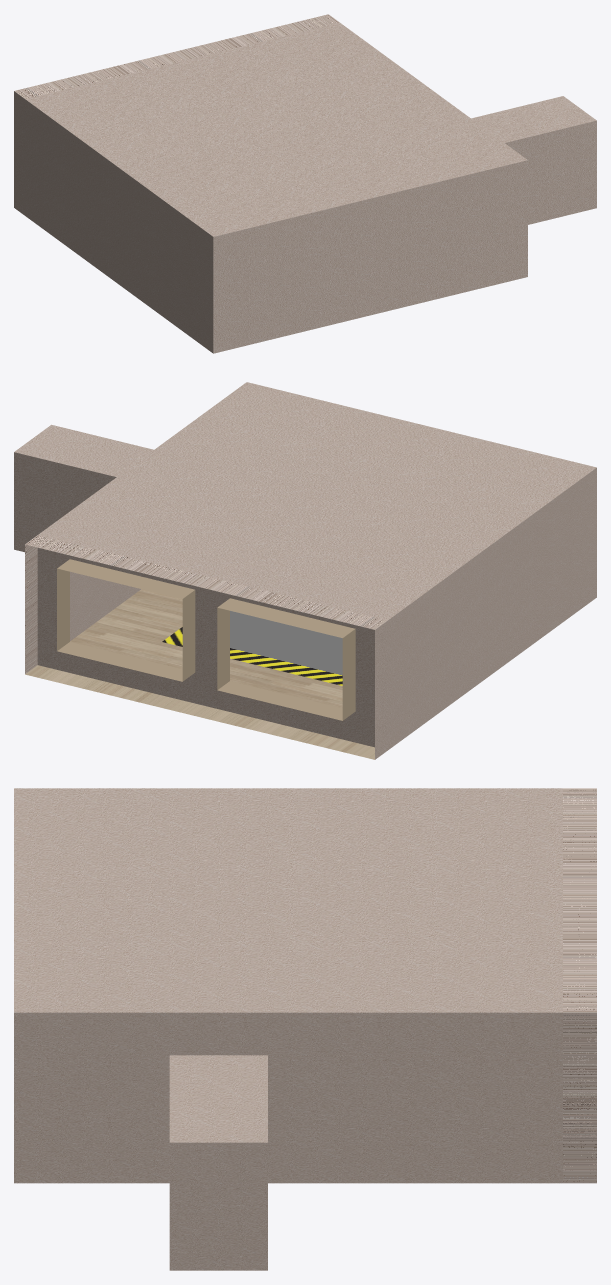
File: playerlobbyphase5.fbx
3 views of the same model, one above another, from view 1: azimuth 30°, elevation 25°; view 2: azimuth 150°, elevation 25°; view 3: azimuth 270°, elevation 25° (orthographic). The views are drawn at different scales.
Visible parts, largest first — view 1: Cube; view 2: Cube; view 3: Cube.
Boxes of the visible parts, x1,y1,x2,y2 form: Cube: [14, 14, 596, 353]; Cube: [14, 382, 596, 759]; Cube: [14, 788, 596, 1270].
Size of the model in its own units: 775 by 198 by 613.
Materials: 3 (3 with a texture image).
